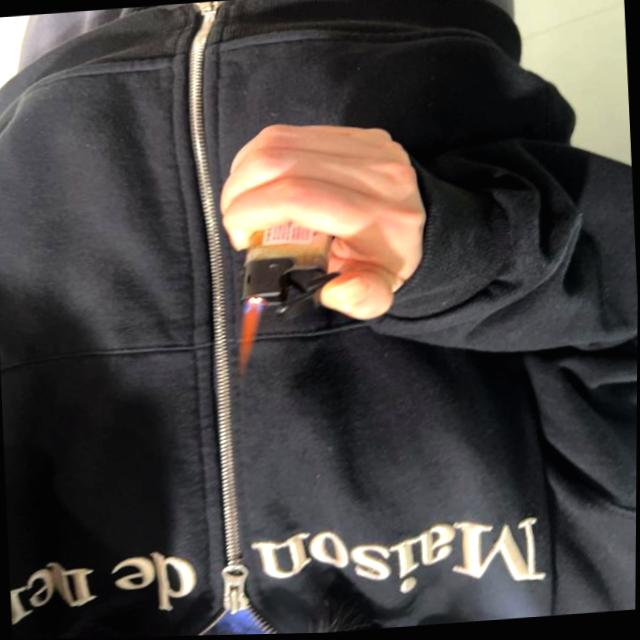helmet: (236, 300, 265, 376)
